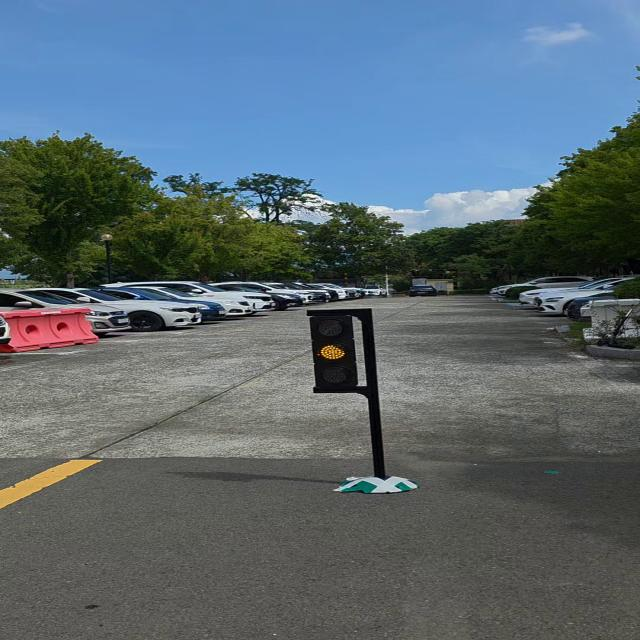yellow: (307, 310, 363, 394)
